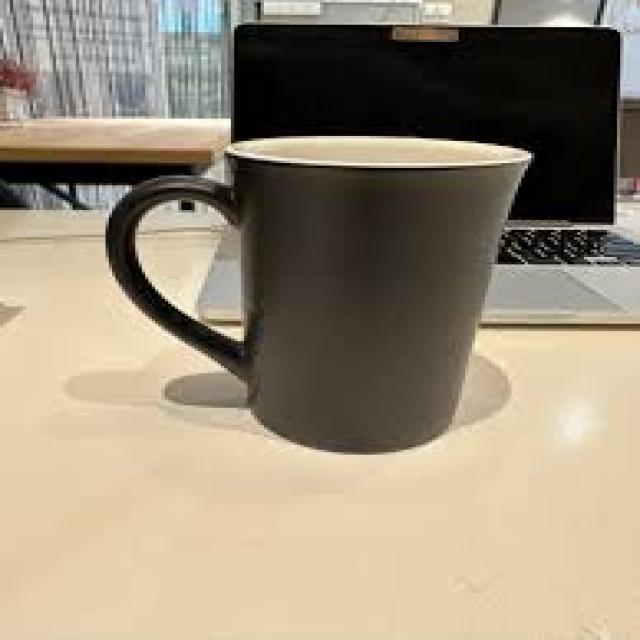taza: (105, 136, 535, 456)
